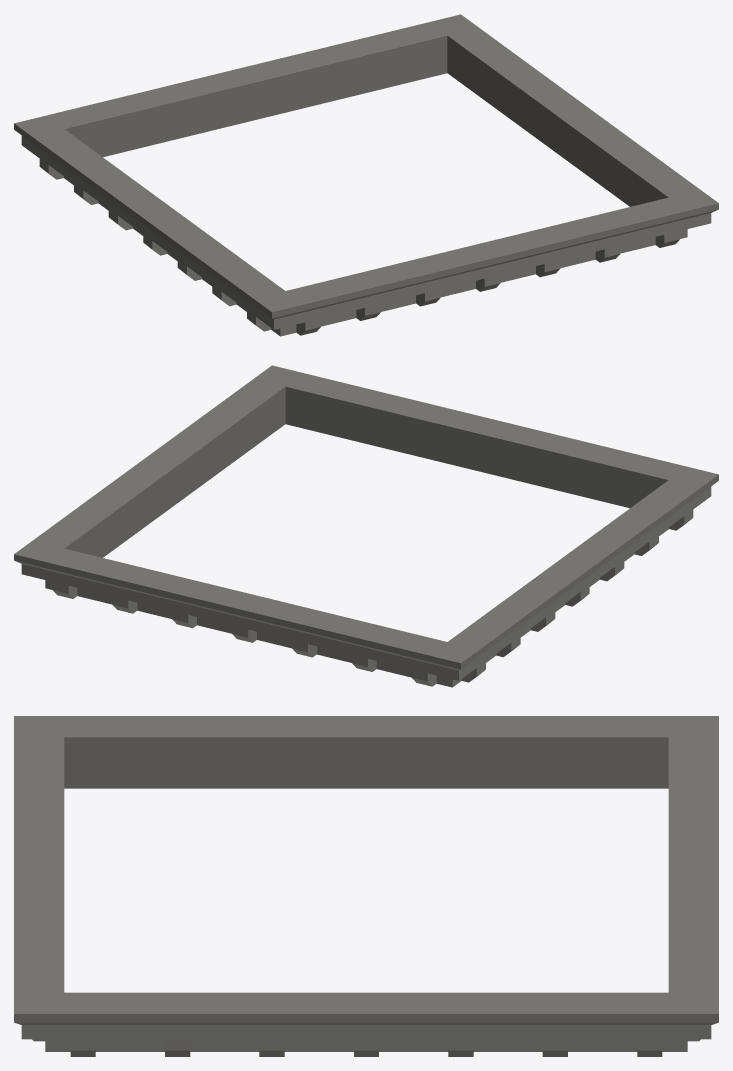
File: SM_Bldg_City_High-Rise_04_05_Cornice_01.fbx
The picture shows the model from 3 angles, top to bottom: view 1: azimuth 30°, elevation 25°; view 2: azimuth 150°, elevation 25°; view 3: azimuth 270°, elevation 25°; orthographic projection. The views are drawn at different scales.
Parts seen in each view (by area): view 1: SM_Bldg_City_High-Rise_04&05_Cornice_01; view 2: SM_Bldg_City_High-Rise_04&05_Cornice_01; view 3: SM_Bldg_City_High-Rise_04&05_Cornice_01.
Part boxes in pixels (box(x1,y1,x2,y2)): SM_Bldg_City_High-Rise_04&05_Cornice_01: box(14, 14, 718, 336); SM_Bldg_City_High-Rise_04&05_Cornice_01: box(14, 365, 718, 687); SM_Bldg_City_High-Rise_04&05_Cornice_01: box(14, 716, 718, 1056).
Bounding box in the file's own units: 1120 × 90 × 1120.
